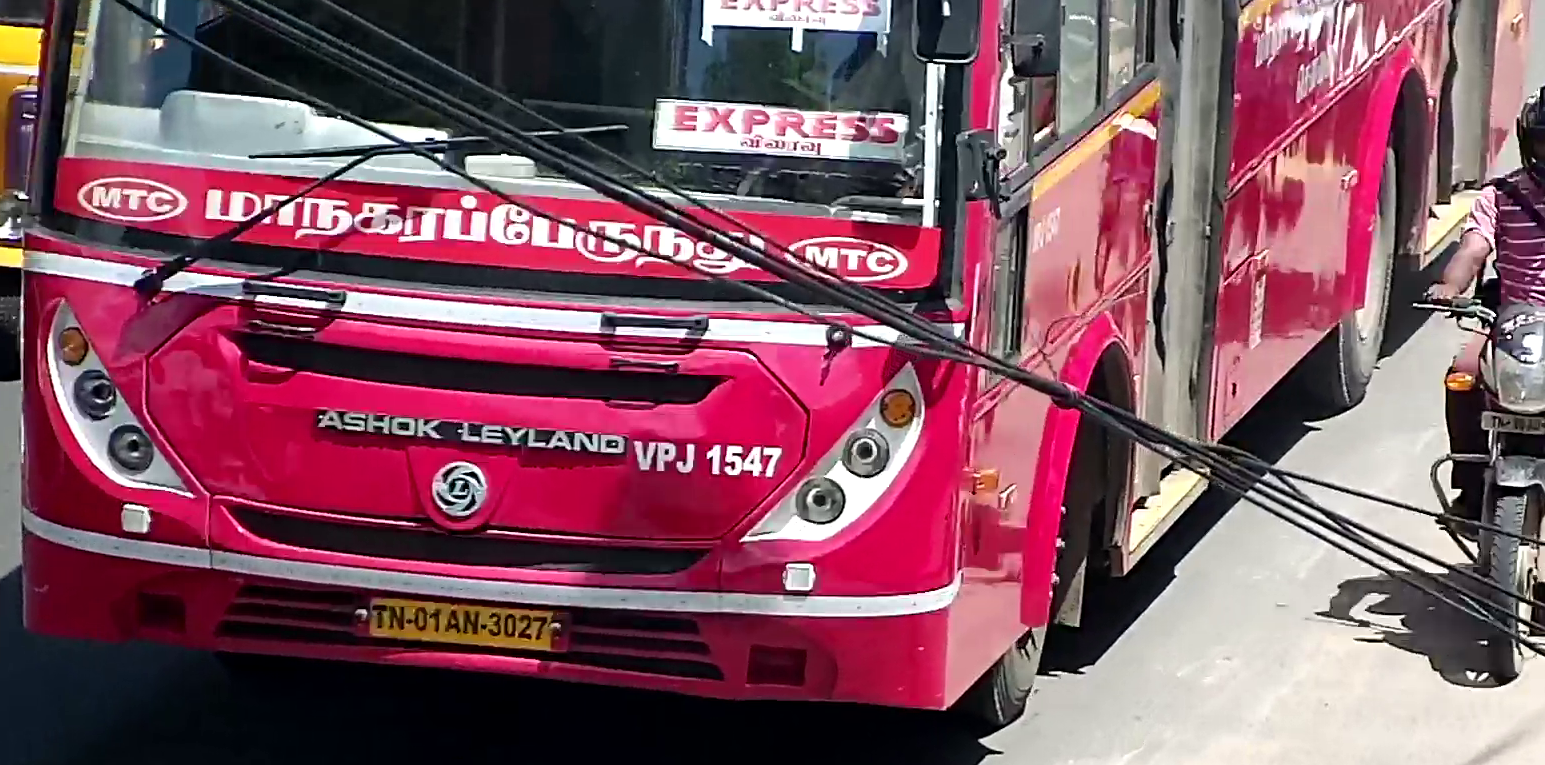-: (481, 623, 487, 631), (406, 618, 413, 624)
0: (414, 607, 428, 631), (502, 614, 516, 637)
1: (428, 607, 441, 633)
2: (517, 614, 532, 640)
3: (488, 612, 502, 636)
7: (532, 615, 548, 640)
A: (444, 608, 461, 634)
N: (461, 609, 480, 635), (389, 605, 405, 631)
P9: (366, 594, 552, 653)
T: (371, 604, 388, 629)
